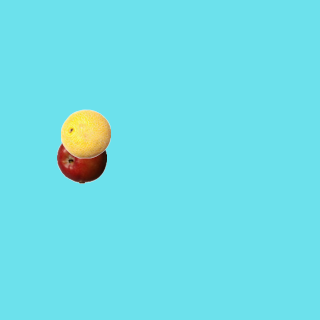Apple Braeburn: (56, 133, 106, 183)
Cantaloupe 1: (60, 108, 110, 158)
